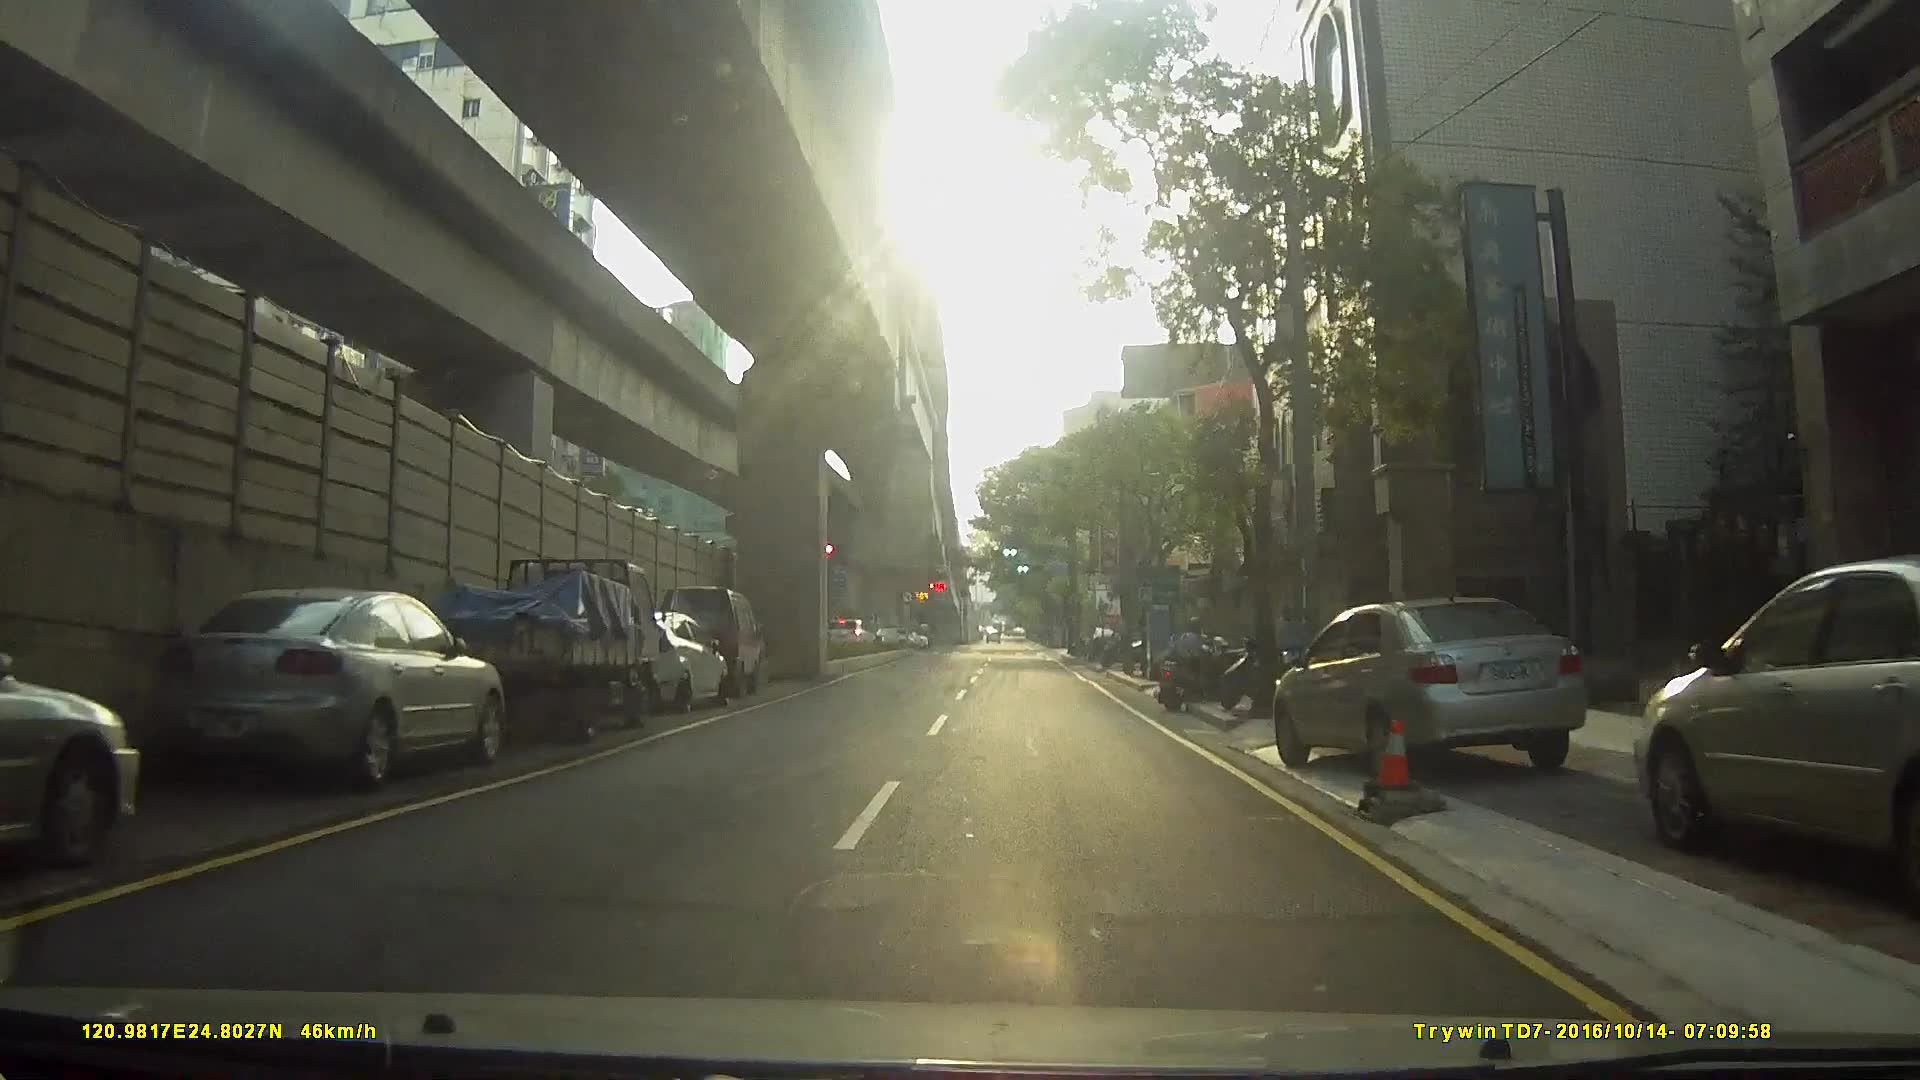rider: (1155, 618, 1240, 714)
vehicle: (1625, 552, 1920, 906), (154, 579, 502, 818), (1249, 589, 1614, 779), (411, 557, 693, 740), (1, 640, 137, 877), (585, 607, 727, 720), (653, 585, 765, 699), (821, 616, 876, 652)
